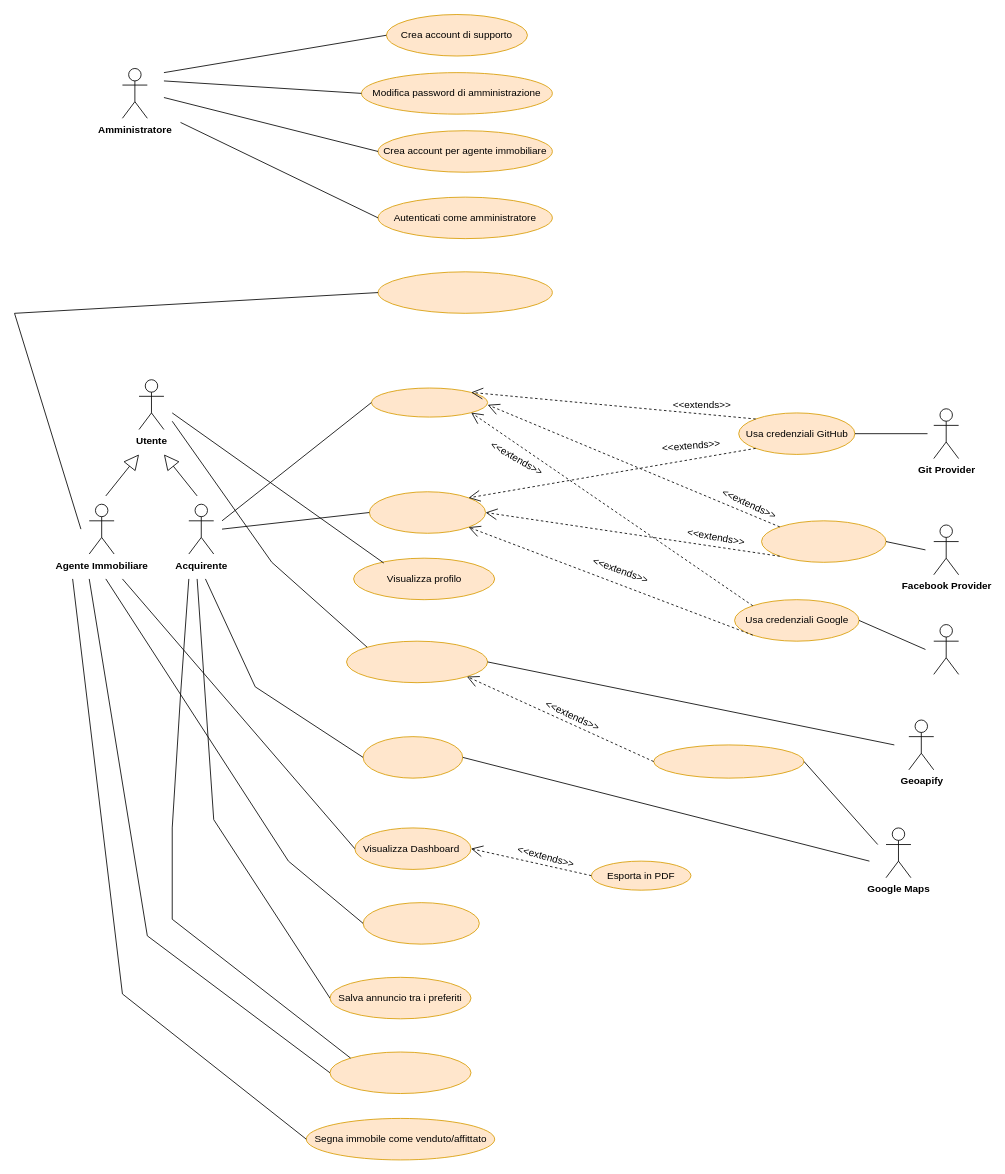
This 1005x1174 diagram has some shape labels left out. Here are the shapes that lost their labels. From the top down, the centre of each, then its label:
At (464,292): "Autenticati come agente immobiliare".
At (429,402): "Effettua login".
At (427,512): "Effettua registrazione".
At (823,541): "Usa credenziali Facebook".
At (417,661): "Visualizza dettagli immobile".
At (946,649): "Google Provider".
At (412,757): "Ricerca immobile".
At (728,761): "Visualizza posizione geografica".
At (420,923): "Carica nuovo immobile".
At (400,1072): "Prenota visita per immobile".
